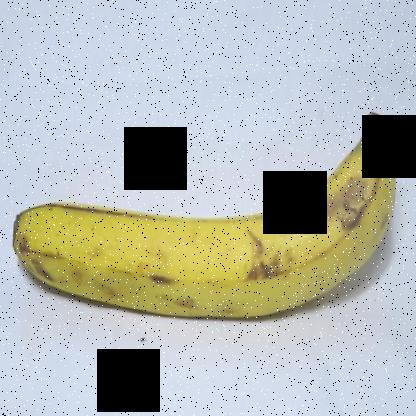ripe: (3, 101, 412, 328)
